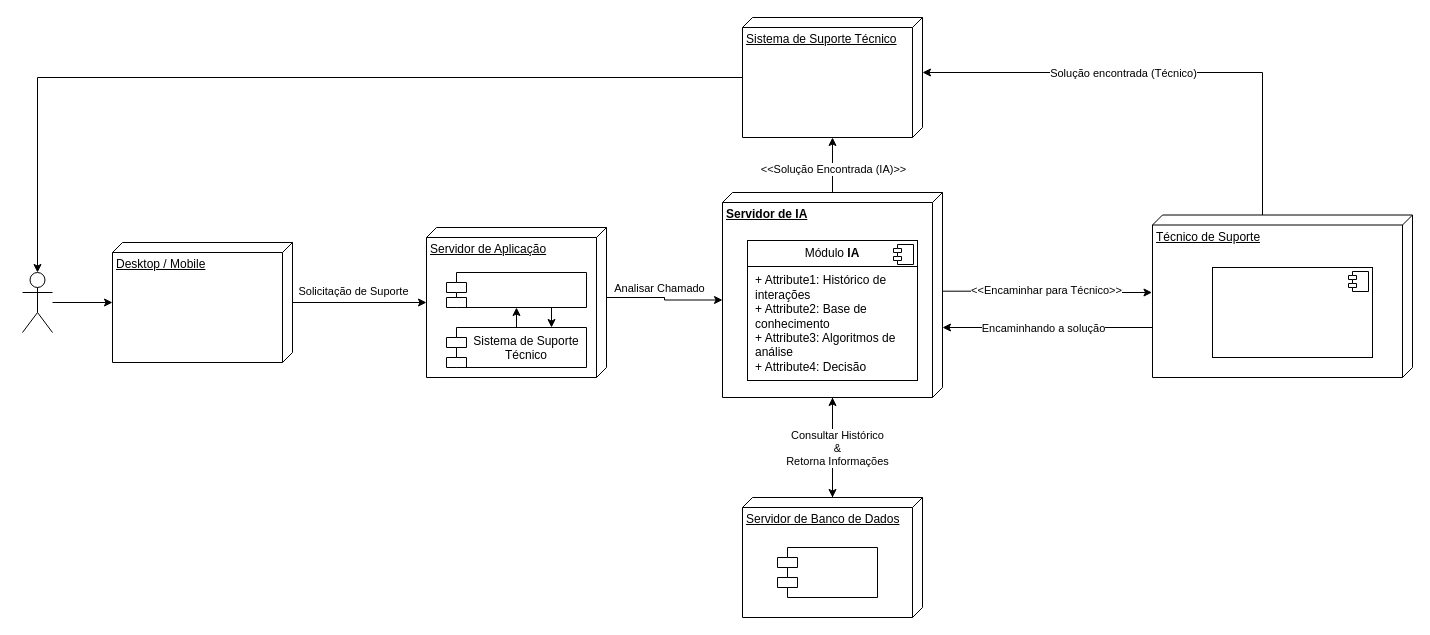
This 1430x635 diagram has some shape labels left out. The shapes that lost their labels are listed below. From the top down, each one's centre as x and y in pixels, then its label:
[37,302]: Usuario
[516,290]: Interface do sistema
[1292,312]: Técnico + Attribute1: Resolve o chamado + Attribute2: Ensina a IA
[827,572]: Banco de Dados PostGresql
